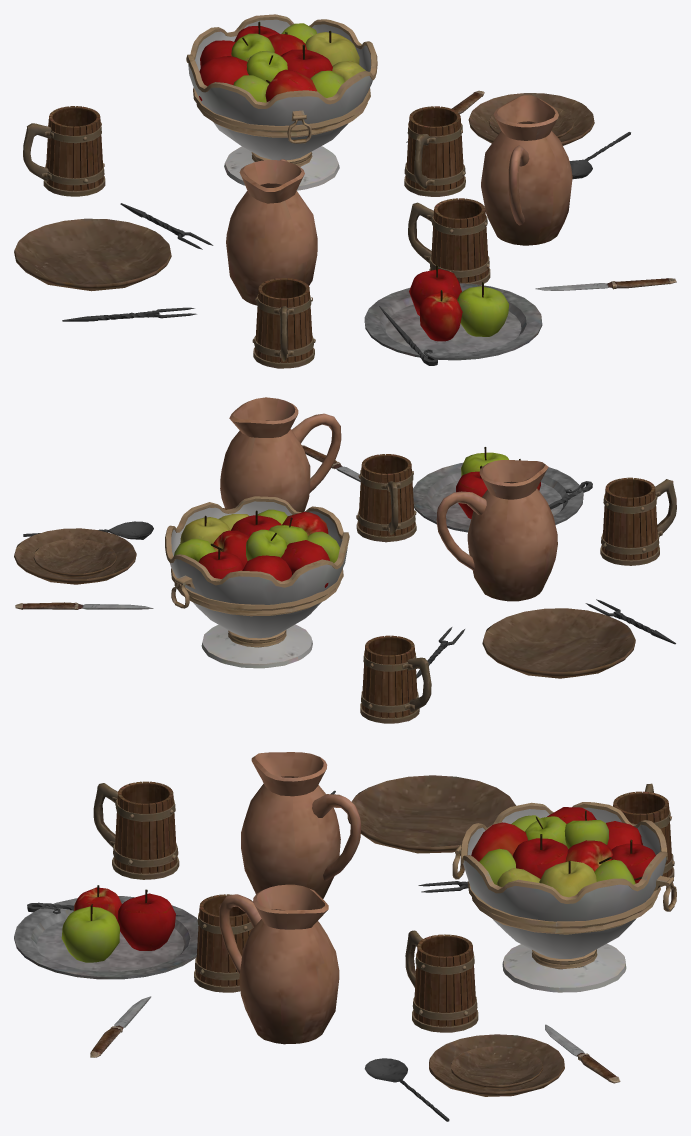
File: SM_CircularTable_onProp_a6ae96.glb
3 views of the same model, one above another, from view 1: azimuth 30°, elevation 25°; view 2: azimuth 150°, elevation 25°; view 3: azimuth 270°, elevation 25° (orthographic). The views are drawn at different scales.
Size of the model in its own units: 1.65 by 0.3385 by 1.41.
7 materials, 7 textured.
